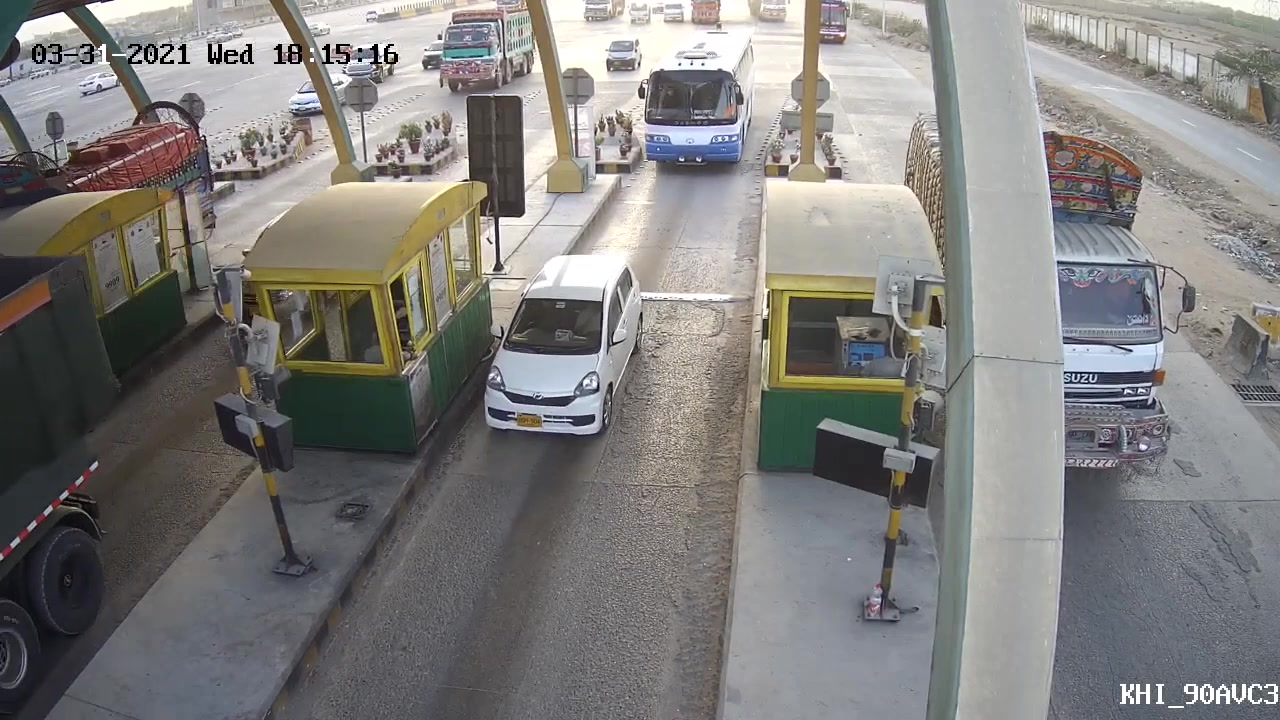F1: (476, 252, 652, 441)
